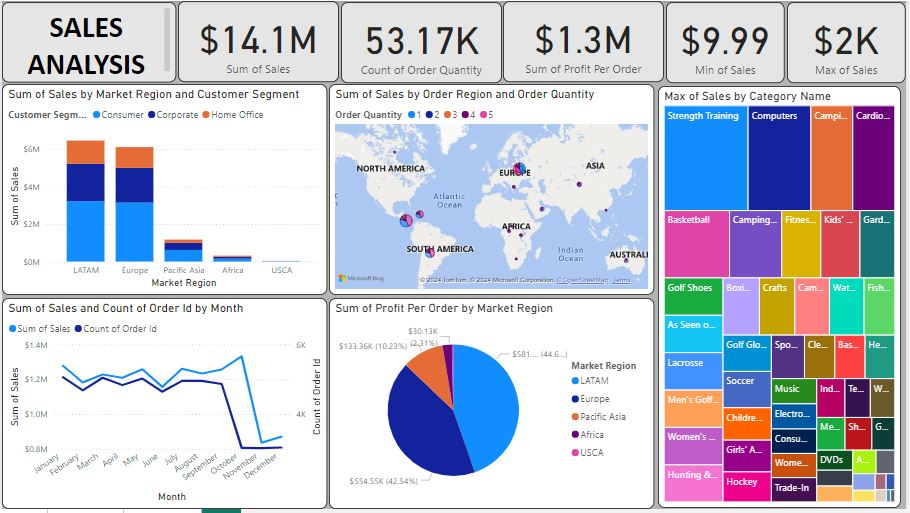

Layout of this report page (visuals, bound fields, positions):
{"tool":"powerbi","page":{"name":"Page 3","canvas":[1280,720],"ordinal":2},"visuals":[{"type":"card","fields":{"Values":["Sum(Sales Data.Sales)"]},"box":[249.6,0,227.7,115.3],"z":0},{"type":"card","fields":{"Values":["CountNonNull(Sales Data.Order Quantity)"]},"box":[480.2,1.5,227.7,115.3],"z":1000},{"type":"card","fields":{"Values":["Sum(Sales Data.Profit Per Order)"]},"box":[710.8,0,227.7,115.3],"z":2000},{"type":"columnChart","fields":{"Category":["Sales Data.Market Region"],"Y":["Sum(Sales Data.Sales)"],"Series":["Sales Data.Customer Segment"]},"box":[0,118.2,461.2,299],"z":3000},{"type":"lineChart","fields":{"Category":["Sales Data.Order Date.Variation.Date Hierarchy.Month"],"Y":["Sum(Sales Data.Sales)"],"Y2":["CountNonNull(Sales Data.Order Id)"]},"box":[0,420.8,461.2,299.2],"z":4000},{"type":"map","fields":{"Category":["Sales Data.Order Region"],"Size":["Sum(Sales Data.Sales)"],"Series":["Sales Data.Order Quantity"]},"box":[464.1,118.2,461.2,299.2],"z":5000},{"type":"pieChart","fields":{"Y":["Sum(Sales Data.Profit Per Order)"],"Category":["Sales Data.Market Region"]},"box":[464.1,420.8,461.2,299.2],"z":6000},{"type":"treemap","fields":{"Group":["Sales Data.Category Name"],"Values":["Max(Sales Data.Sales)"]},"box":[929.7,121.1,344.4,598.4],"z":7000},{"type":"card","fields":{"Values":["Min(Sales Data.Sales)"]},"box":[941.4,1.5,168,115.3],"z":8000},{"type":"card","fields":{"Values":["Max(Sales Data.Sales)"]},"box":[1112.2,1.5,167.8,115.3],"z":9000},{"type":"textbox","box":[0,1.5,247,113.8],"z":10000}]}

Visuals, with their boxes in screenshot pixels (x1, y1, x2, y2), scaled from the page's 1280x720 canvas onto the 910x513 screenshot:
card - Sum(Sales Data.Sales): 177:0:339:82
card - CountNonNull(Sales Data.Order Quantity): 341:1:503:83
card - Sum(Sales Data.Profit Per Order): 505:0:667:82
columnChart - Sales Data.Market Region x Sum(Sales Data.Sales): 0:84:328:297
lineChart - Sales Data.Order Date.Variation.Date Hierarchy.Month x Sum(Sales Data.Sales): 0:300:328:512
map - Sales Data.Order Region x Sum(Sales Data.Sales): 330:84:658:297
pieChart - Sum(Sales Data.Profit Per Order) x Sales Data.Market Region: 330:300:658:512
treemap - Sales Data.Category Name x Max(Sales Data.Sales): 661:86:906:512
card - Min(Sales Data.Sales): 669:1:789:83
card - Max(Sales Data.Sales): 791:1:909:83
textbox: 0:1:176:82
